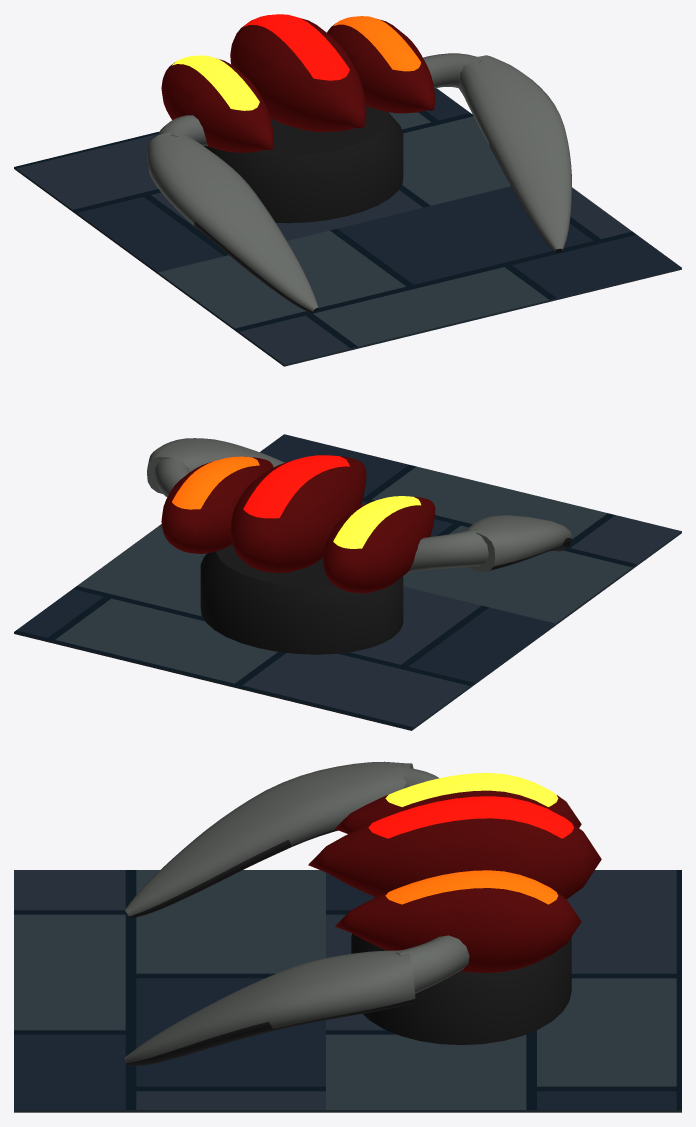
Rendered from glass_hatch_9.glb.
3 renders of one model, top to bottom at view 1: azimuth 30°, elevation 25°; view 2: azimuth 150°, elevation 25°; view 3: azimuth 270°, elevation 25°, orthographic. The views are drawn at different scales.
Parts seen in each view (by area): view 1: pit_floor, base, blade_r, blade, pod1, pod0, pod2, claw_r, claw; view 2: pit_floor, base, pod1, pod0, pod2, blade, claw, blade_r, claw_r; view 3: pit_floor, pod1, pod2, blade, blade_r, base, pod0, claw_r.
Part boxes in pixels (left/top/right/bottom): pit_floor: left=14, top=88, right=681, bottom=366; base: left=204, top=106, right=403, bottom=223; blade_r: left=459, top=55, right=571, bottom=252; blade: left=147, top=132, right=318, bottom=312; pod1: left=230, top=14, right=366, bottom=132; pod0: left=161, top=55, right=273, bottom=152; pod2: left=327, top=16, right=435, bottom=113; claw_r: left=423, top=53, right=481, bottom=88; claw: left=158, top=115, right=207, bottom=146; pit_floor: left=14, top=434, right=681, bottom=730; base: left=200, top=544, right=403, bottom=654; pod1: left=230, top=455, right=366, bottom=572; pod0: left=323, top=496, right=435, bottom=593; pod2: left=161, top=456, right=273, bottom=553; blade: left=466, top=515, right=571, bottom=572; claw: left=407, top=529, right=488, bottom=573; blade_r: left=147, top=438, right=284, bottom=493; claw_r: left=154, top=455, right=189, bottom=497; pit_floor: left=14, top=870, right=681, bottom=1112; pod1: left=308, top=796, right=601, bottom=899; pod2: left=335, top=870, right=581, bottom=972; blade: left=124, top=761, right=413, bottom=918; blade_r: left=124, top=950, right=415, bottom=1066; base: left=351, top=897, right=571, bottom=1044; pod0: left=335, top=773, right=581, bottom=833; claw_r: left=395, top=935, right=469, bottom=993.
Bounding box in the file's own units: 17 × 7.7 × 20.
